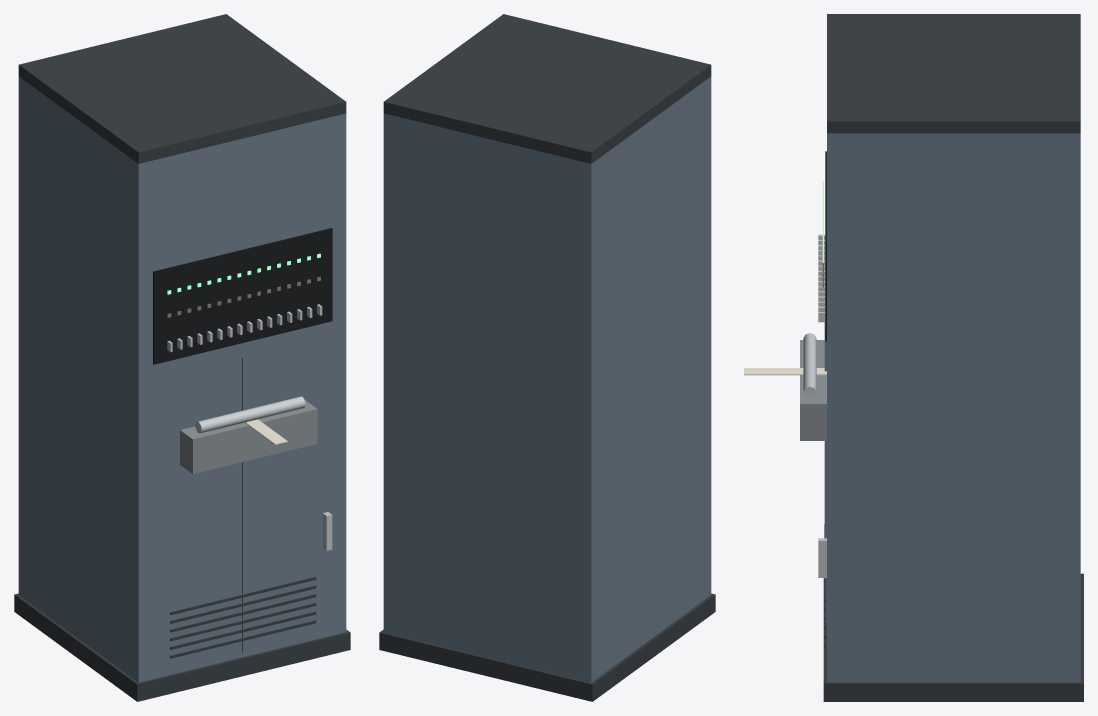
The picture shows the model from 3 angles, left to right: view 1: azimuth 30°, elevation 25°; view 2: azimuth 150°, elevation 25°; view 3: azimuth 270°, elevation 25°; orthographic projection. The views are drawn at different scales.
Visible parts, largest first — view 1: kit-ps-516; view 2: kit-ps-516; view 3: kit-ps-516.
Part boxes in pixels (left/top/right/bottom): kit-ps-516: left=14, top=14, right=350, bottom=701; kit-ps-516: left=379, top=14, right=715, bottom=701; kit-ps-516: left=744, top=14, right=1083, bottom=701.
Bounding box in the file's own units: 0.77 × 1.89 × 1.
